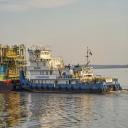tugboat: (20, 45, 123, 98)
